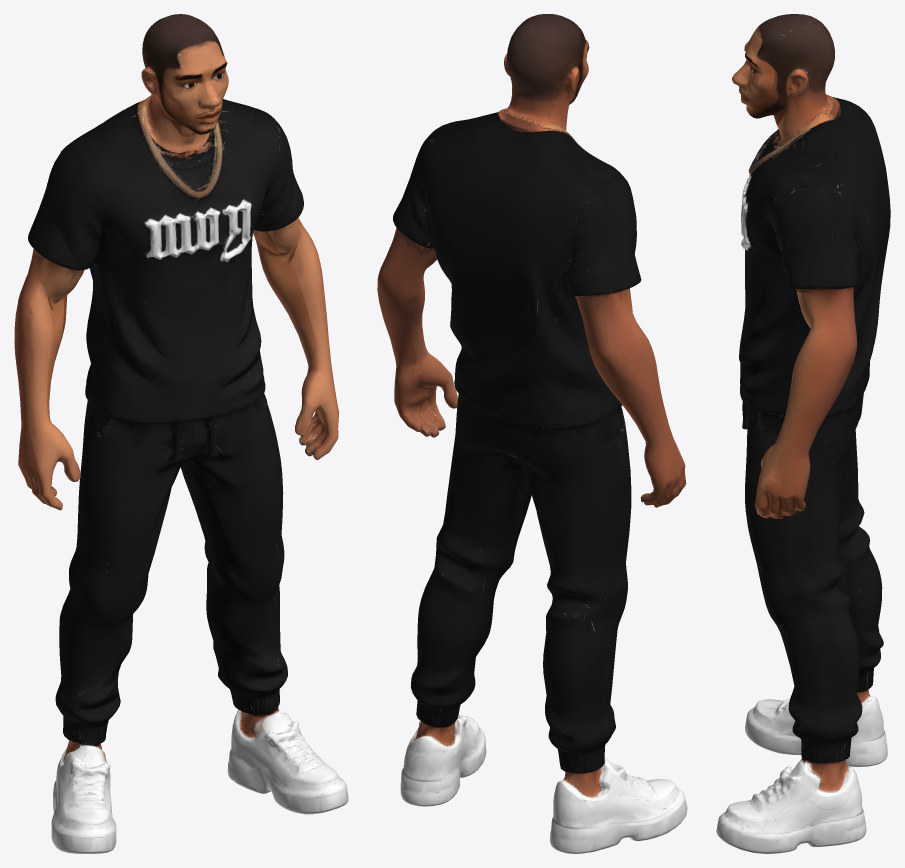
File: sugo.glb
3 renders of one model, left to right at view 1: azimuth 30°, elevation 25°; view 2: azimuth 150°, elevation 25°; view 3: azimuth 270°, elevation 25°, orthographic. The views are drawn at different scales.
Parts seen in each view (by area): view 1: Mesh_0; view 2: Mesh_0; view 3: Mesh_0.
Boxes of the visible parts, x1,y1,x2,y2 form: Mesh_0: [14, 14, 348, 853]; Mesh_0: [377, 14, 687, 853]; Mesh_0: [716, 14, 890, 853].
Size of the model in its own units: 0.7441 by 1.91 by 0.3906.
Materials: 1 (1 with a texture image).
